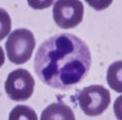N: (34, 32, 93, 88)
